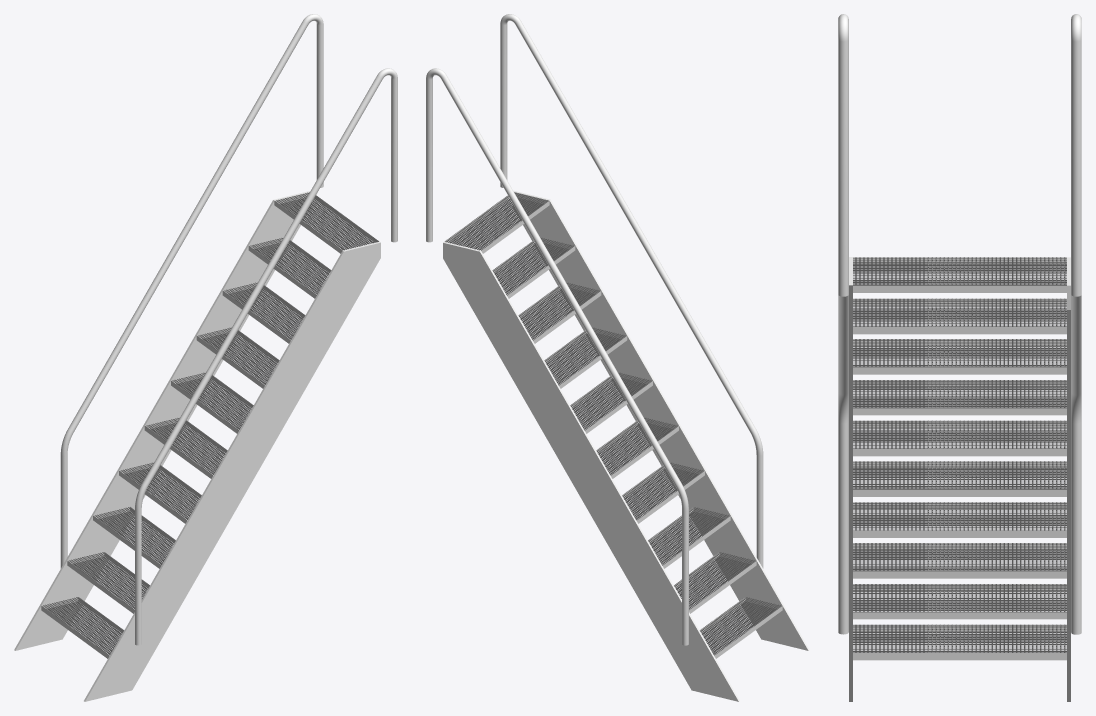
File: ship stairs.obj
3 views of the same model, side by side, from view 1: azimuth 30°, elevation 25°; view 2: azimuth 150°, elevation 25°; view 3: azimuth 270°, elevation 25° (orthographic). The views are drawn at different scales.
Visible parts, largest first — view 1: Mesh14_Model, Mesh6_degrau_0_80_6_Model, Mesh12_Model; view 2: Mesh14_Model, Mesh6_degrau_0_80_6_Model, Mesh12_Model; view 3: Mesh6_degrau_0_80_6_Model, Mesh12_Model, Mesh14_Model.
Part boxes in pixels (x1,y1,x2,y2): Mesh14_Model: (14,191,380,701); Mesh6_degrau_0_80_6_Model: (41,192,378,658); Mesh12_Model: (60,14,397,645); Mesh14_Model: (443,191,809,701); Mesh6_degrau_0_80_6_Model: (444,192,782,658); Mesh12_Model: (426,14,763,645); Mesh6_degrau_0_80_6_Model: (853,257,1066,660); Mesh12_Model: (838,14,1081,634); Mesh14_Model: (849,257,1070,701).
Bounding box in the file's own units: 2.1 × 3.62 × 0.91.
